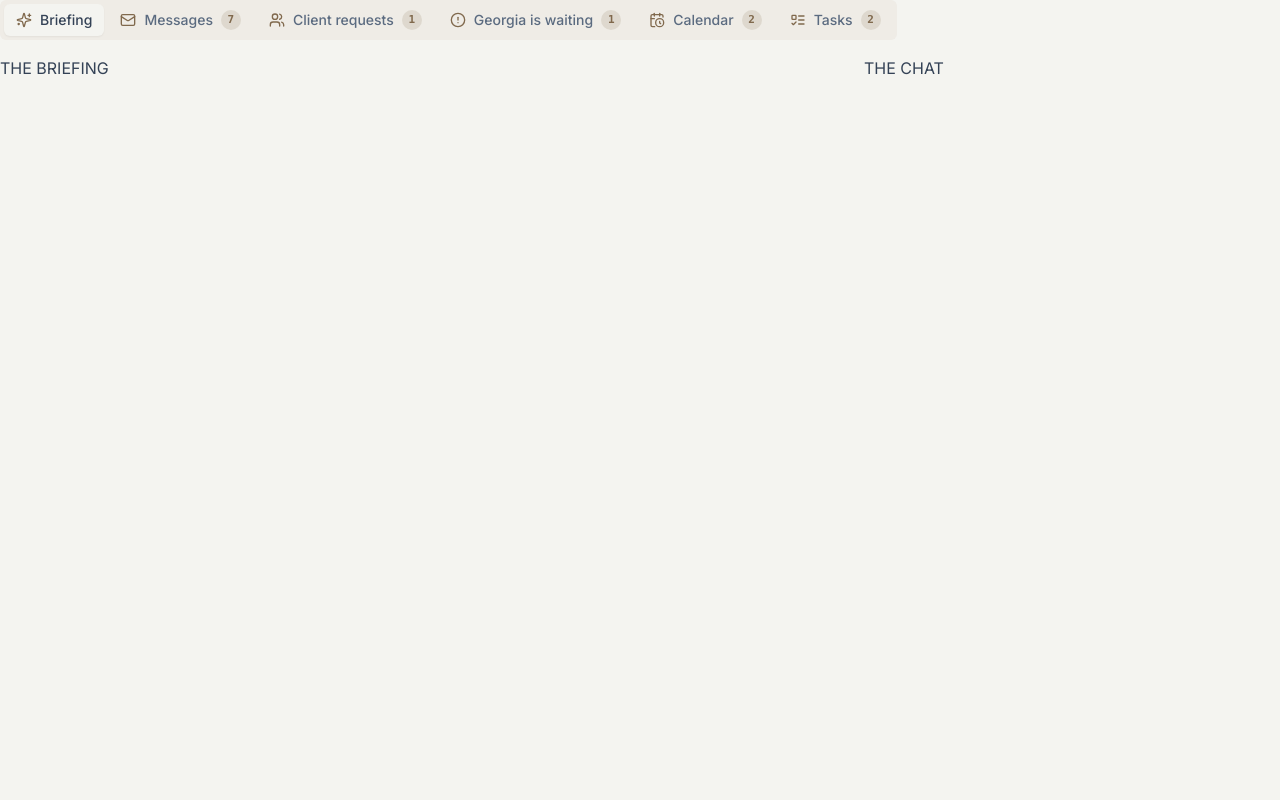
Test case: the tabs and what they show › opens a tab's list in a side panel over the page, leaving the Briefing and the chat, and closing it goes back to the Briefing tab
The width and height of the screenshot is (1280, 800).
Press the mouse on the tab with test id "tile-messages": (181, 20) [108, 4, 253, 36]
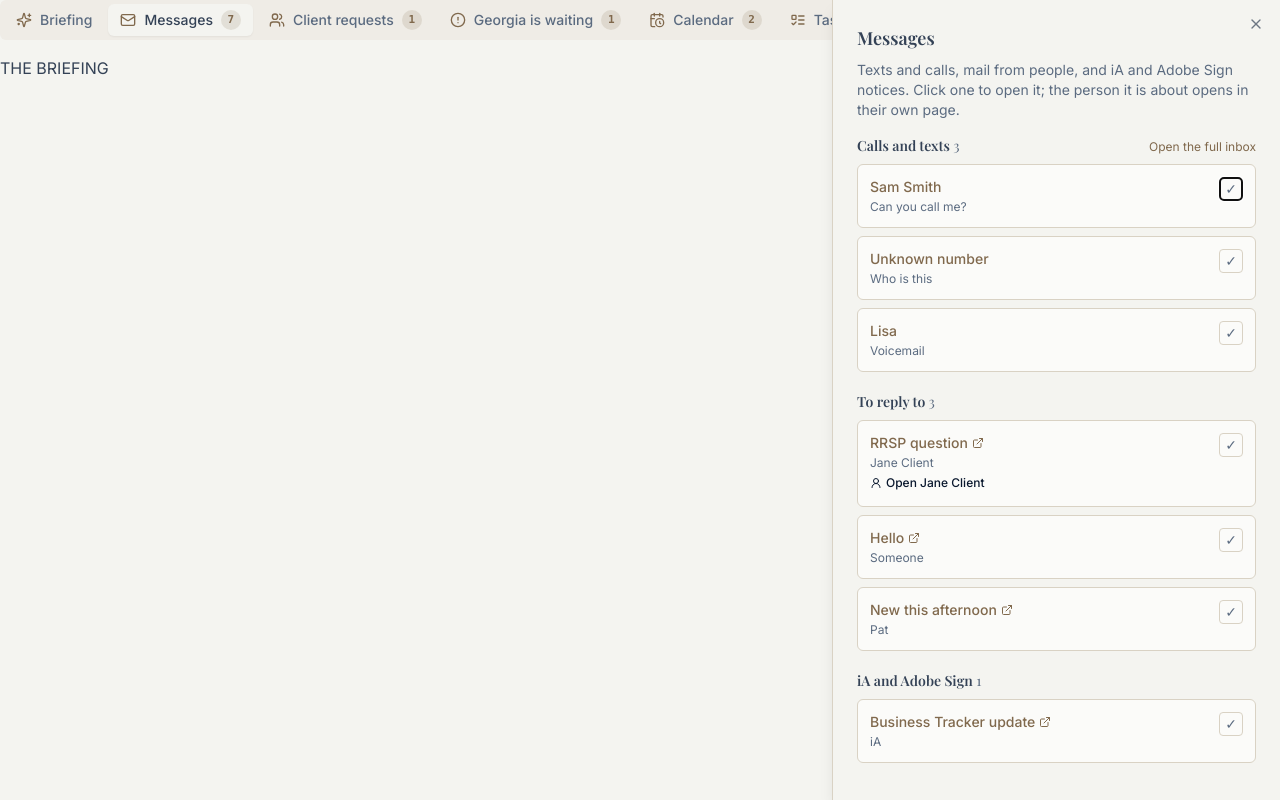
Check: the text "THE BRIEFING" is shown, box [0, 58, 109, 78]
Check: the dialog with test id "today-panel" shows "Sam Smith", box [870, 178, 941, 195]
Press Escape in the dialog with test id "today-panel", box [832, 0, 1279, 799]
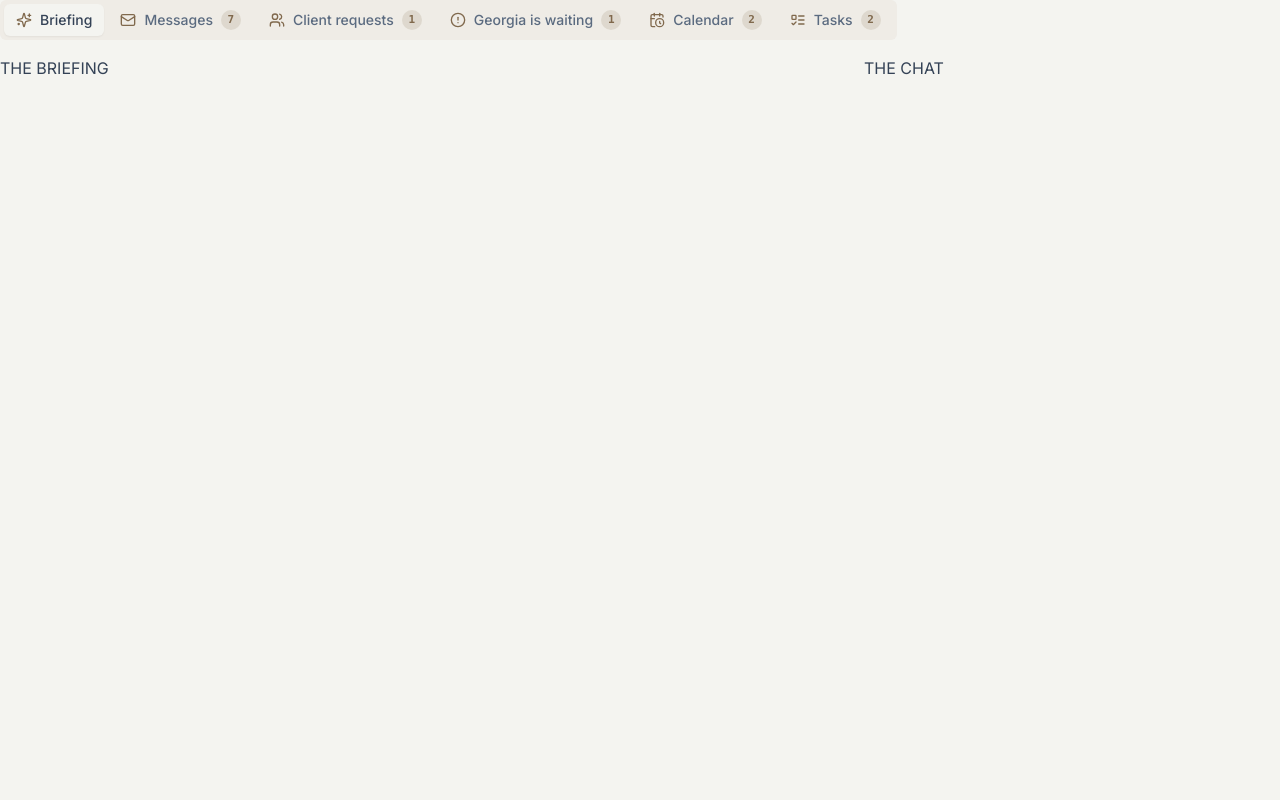
Check: the dialog with test id "today-panel" is gone
Press the mouse on the tab "Tasks 2": (835, 20) [778, 4, 893, 36]
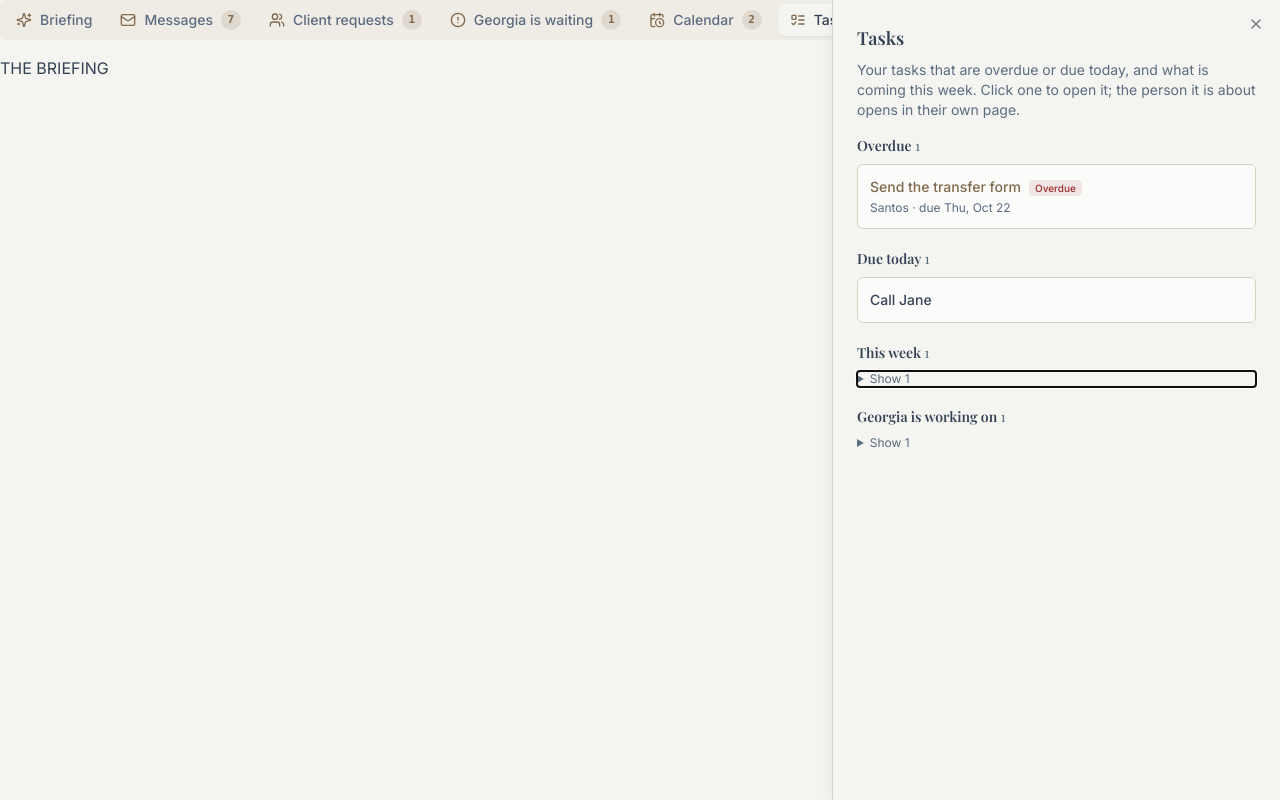
Press the mouse on the tab with test id "tile-calendar": (705, 20) [637, 4, 774, 36]
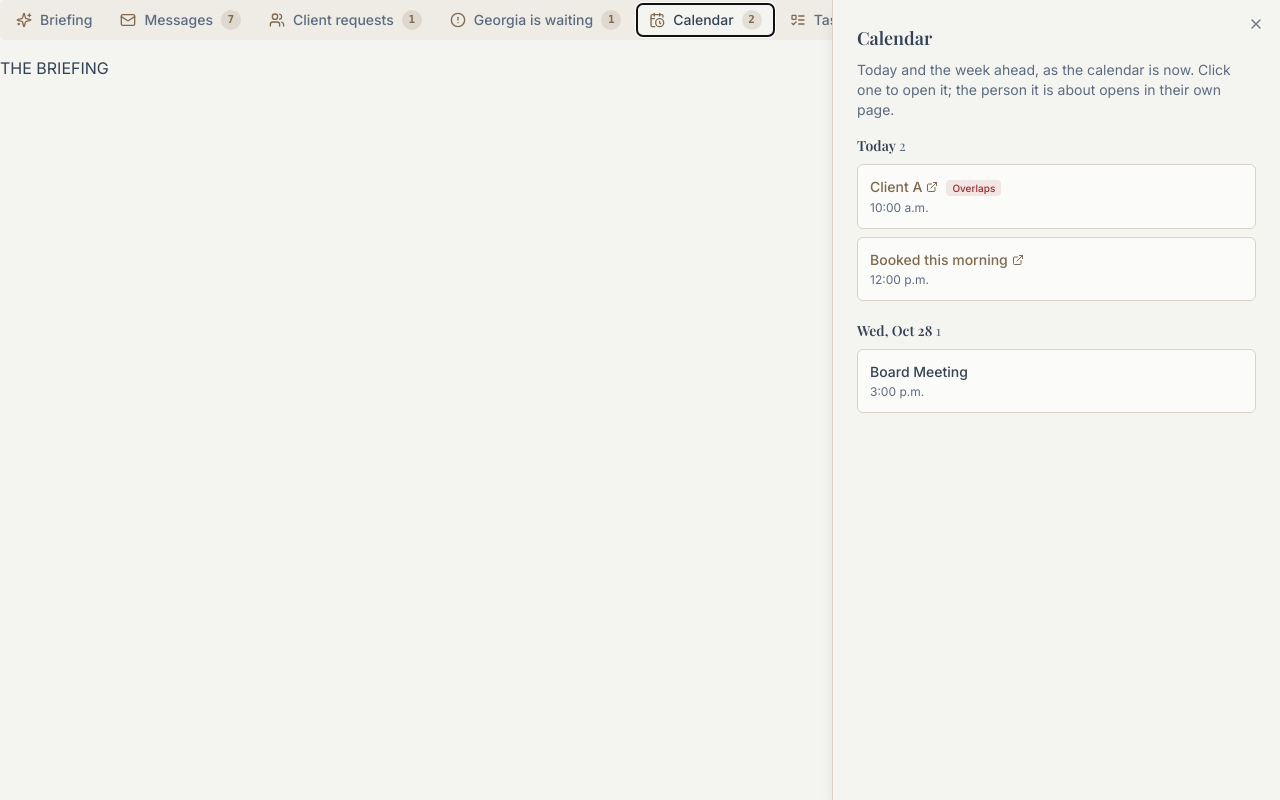
Check: the element with test id "group-today" is shown, box [857, 136, 1256, 301]
Press the mouse on the tab with test id "tile-briefing": (54, 20) [4, 4, 104, 36]
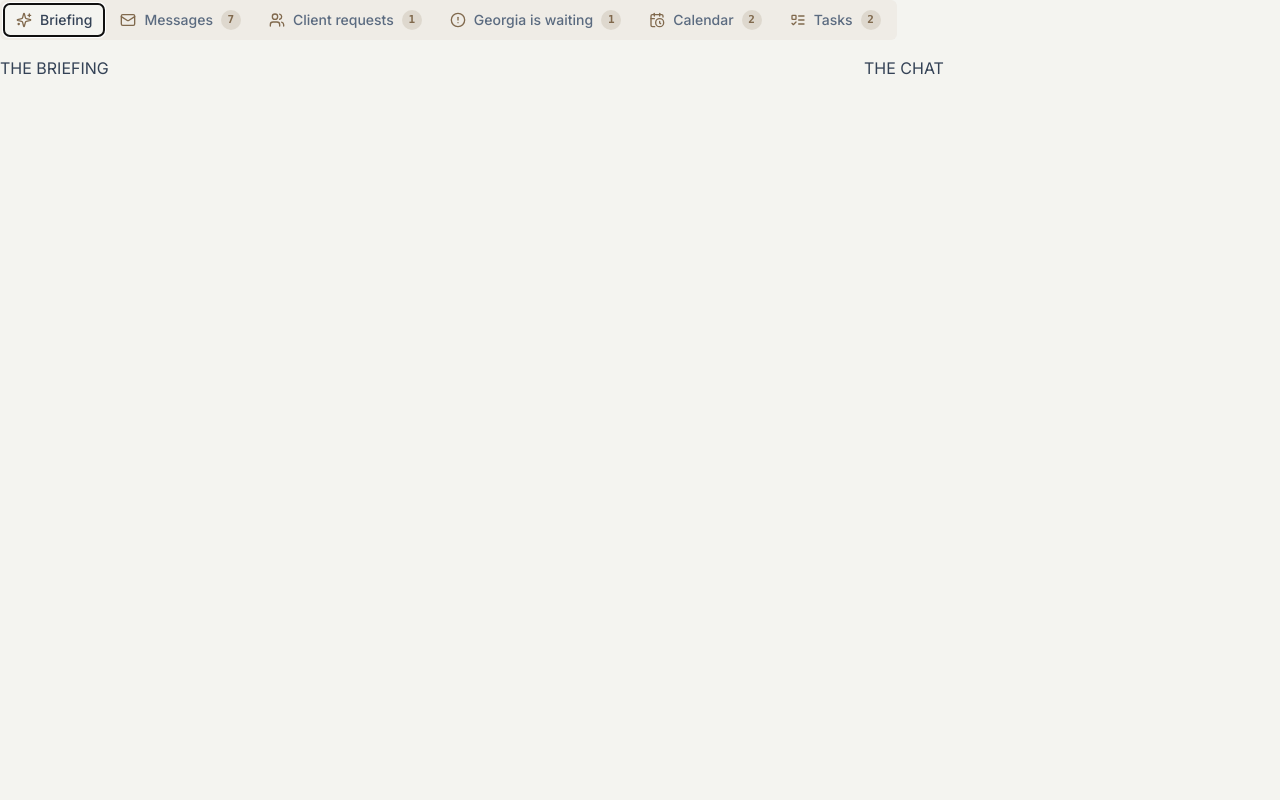
Check: the dialog with test id "today-panel" is gone
